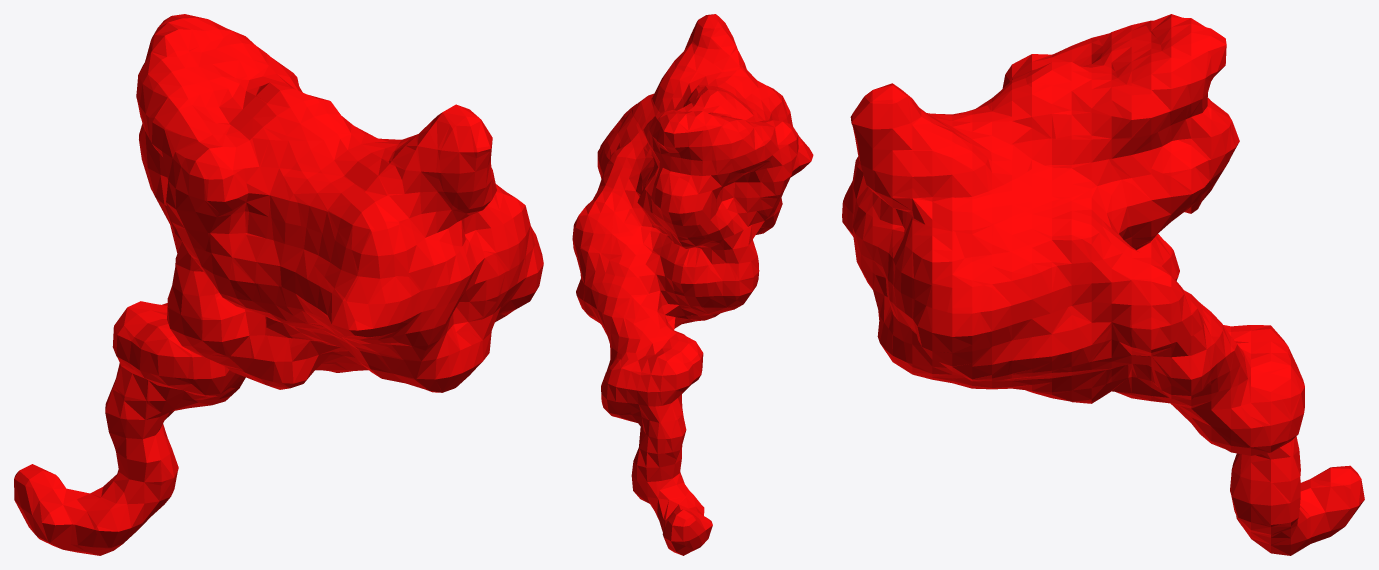
The model's file is proP_coarse.dae.
3 renders of one model, left to right at view 1: azimuth 30°, elevation 25°; view 2: azimuth 150°, elevation 25°; view 3: azimuth 270°, elevation 25°, orthographic. The views are drawn at different scales.
Parts seen in each view (by area): view 1: proP; view 2: proP; view 3: proP.
Boxes of the visible parts, x1,y1,x2,y2 form: proP: (14, 14, 543, 555); proP: (572, 14, 813, 555); proP: (842, 14, 1364, 555).
Size of the model in its own units: 62.96 by 103 by 89.24.
